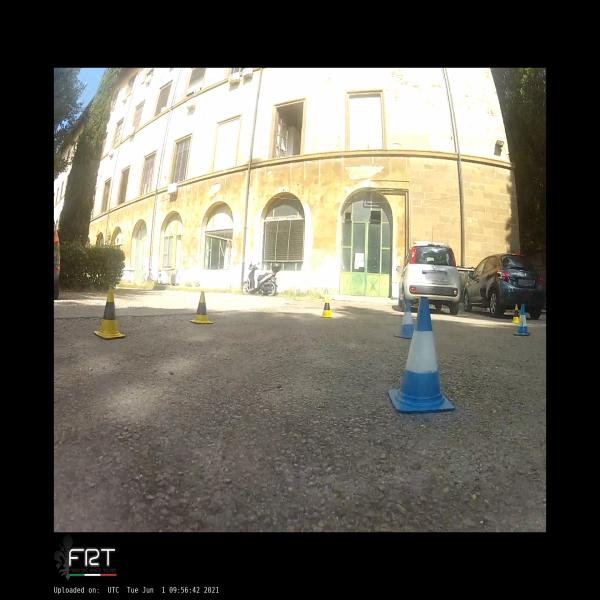blue_cone: (388, 296, 455, 413), (394, 300, 415, 338), (513, 304, 530, 336)
yellow_cone: (93, 286, 126, 339), (189, 291, 213, 324), (320, 297, 333, 318), (510, 304, 519, 323)
